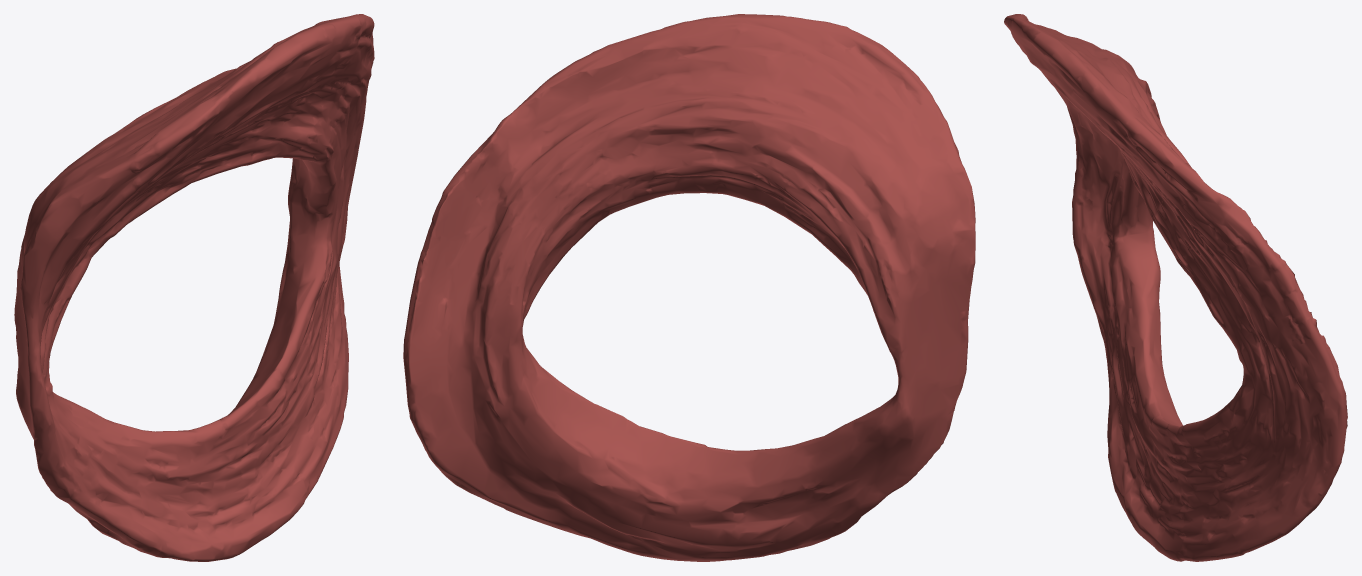
File: FMA46786.glb
3 renders of one model, left to right at view 1: azimuth 30°, elevation 25°; view 2: azimuth 150°, elevation 25°; view 3: azimuth 270°, elevation 25°, orthographic. The views are drawn at different scales.
Parts seen in each view (by area): view 1: FMA46786; view 2: FMA46786; view 3: FMA46786.
Part boxes in pixels (x1,y1,x2,y2): FMA46786: [14, 14, 374, 561]; FMA46786: [403, 14, 975, 561]; FMA46786: [1004, 14, 1347, 561].
Size of the model in its own units: 0.0429 by 0.0481 by 0.0304.
